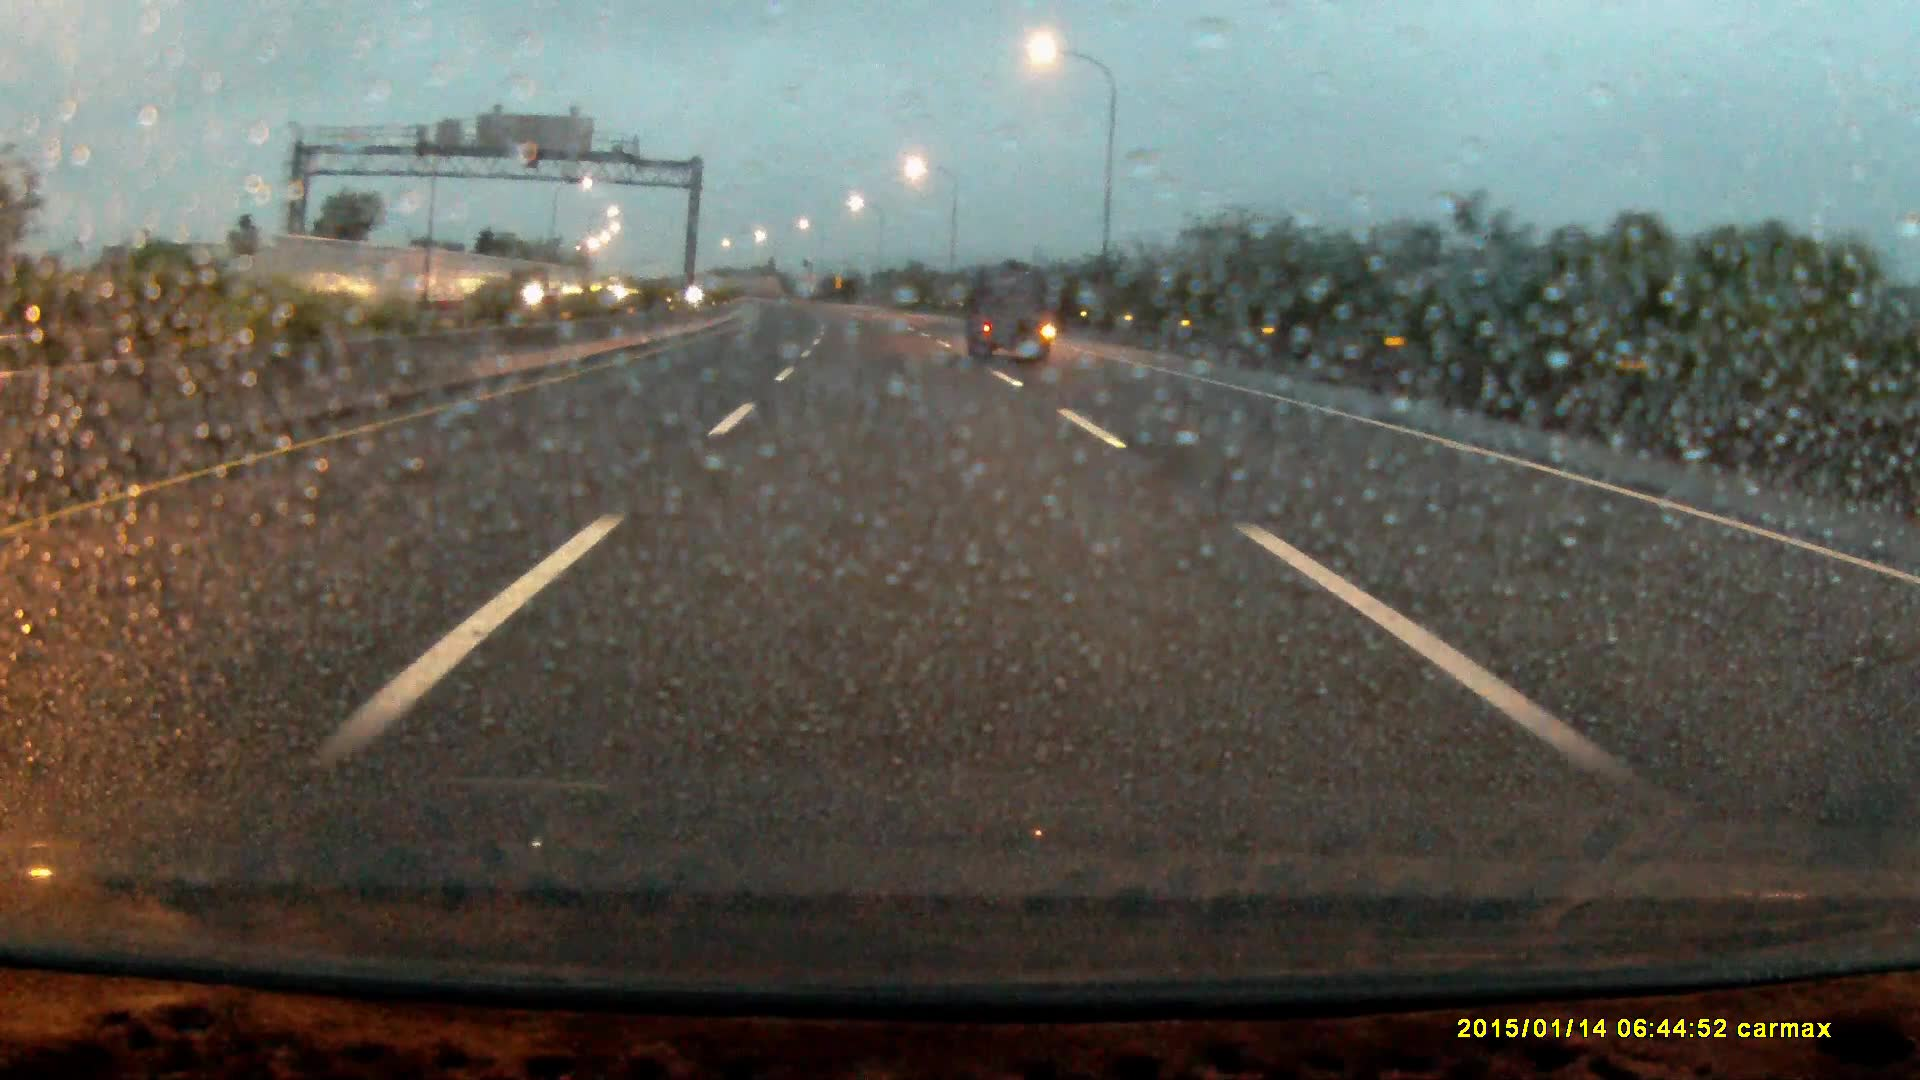vehicle: (971, 272, 1058, 363), (505, 265, 574, 313)
